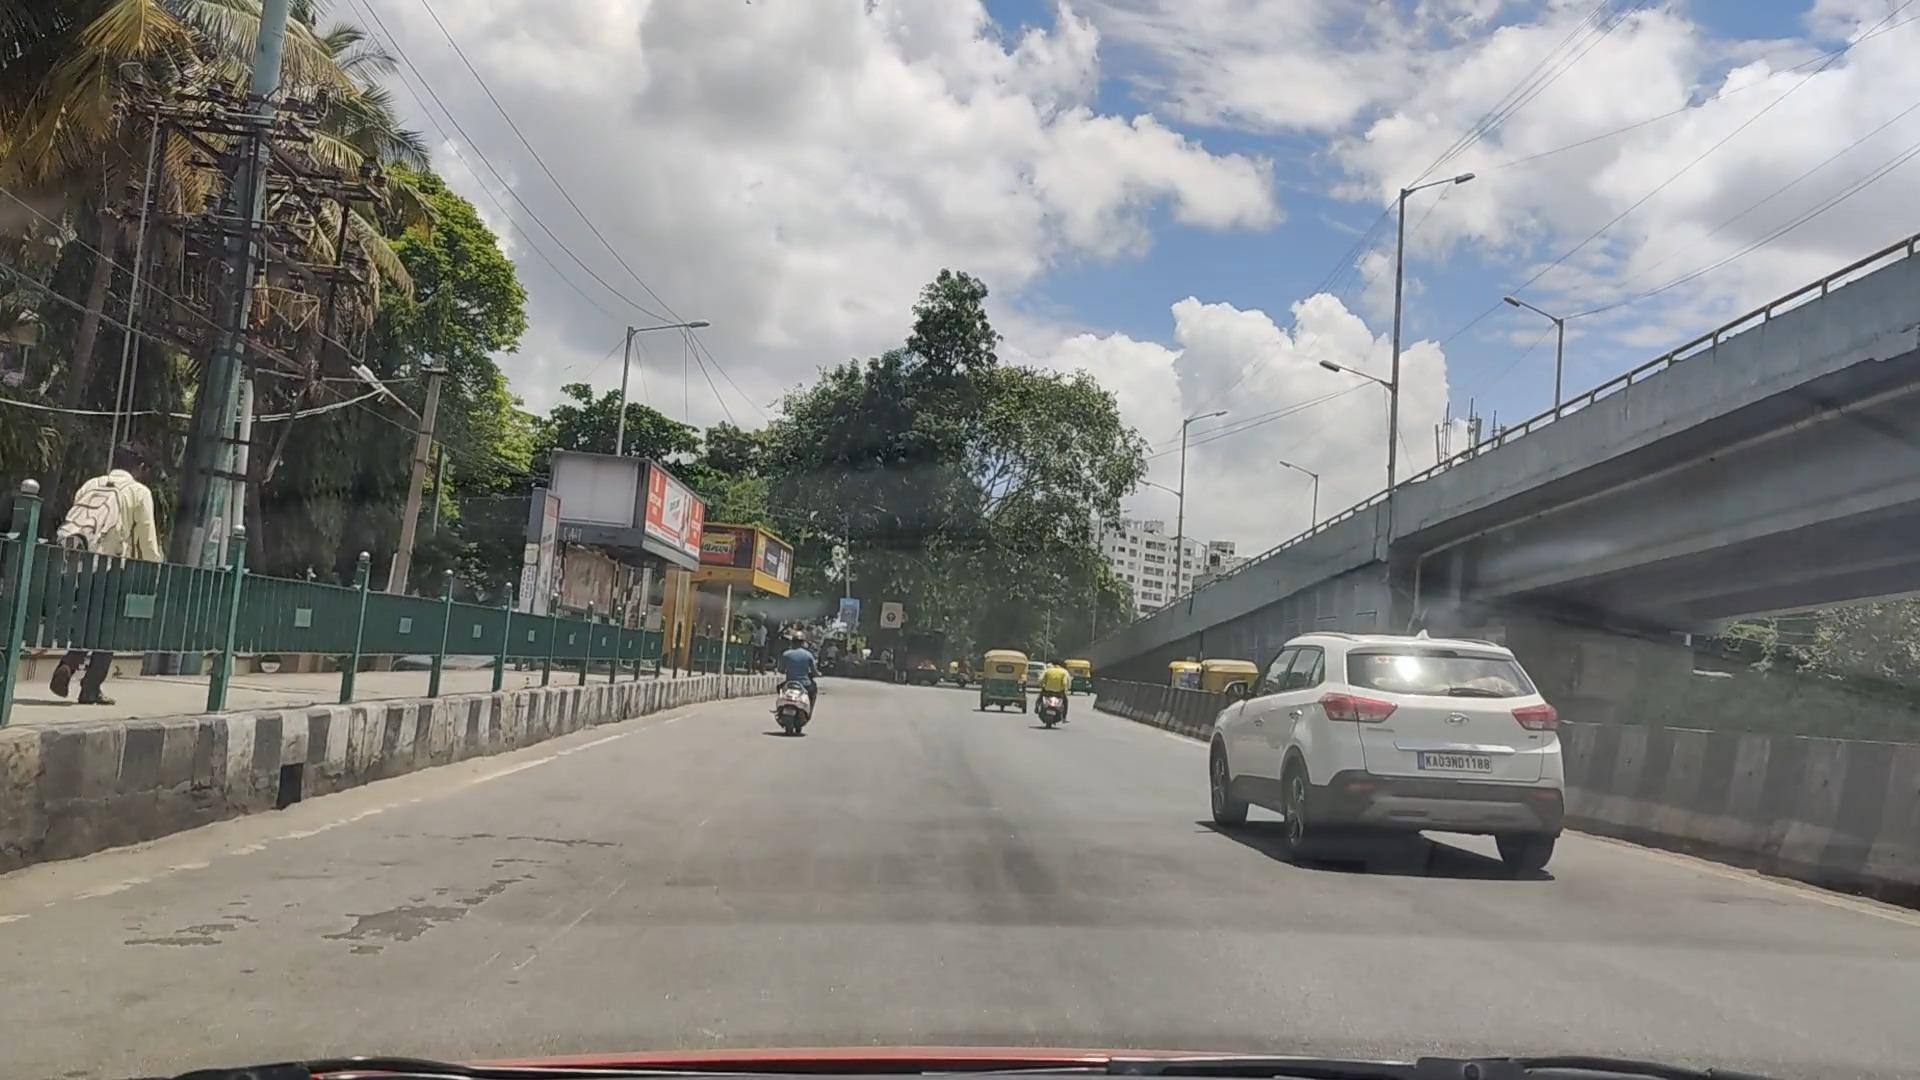LMV: (1203, 609, 1619, 874), (773, 617, 816, 740)
RoadDamages: (343, 890, 489, 961), (170, 884, 257, 951)
